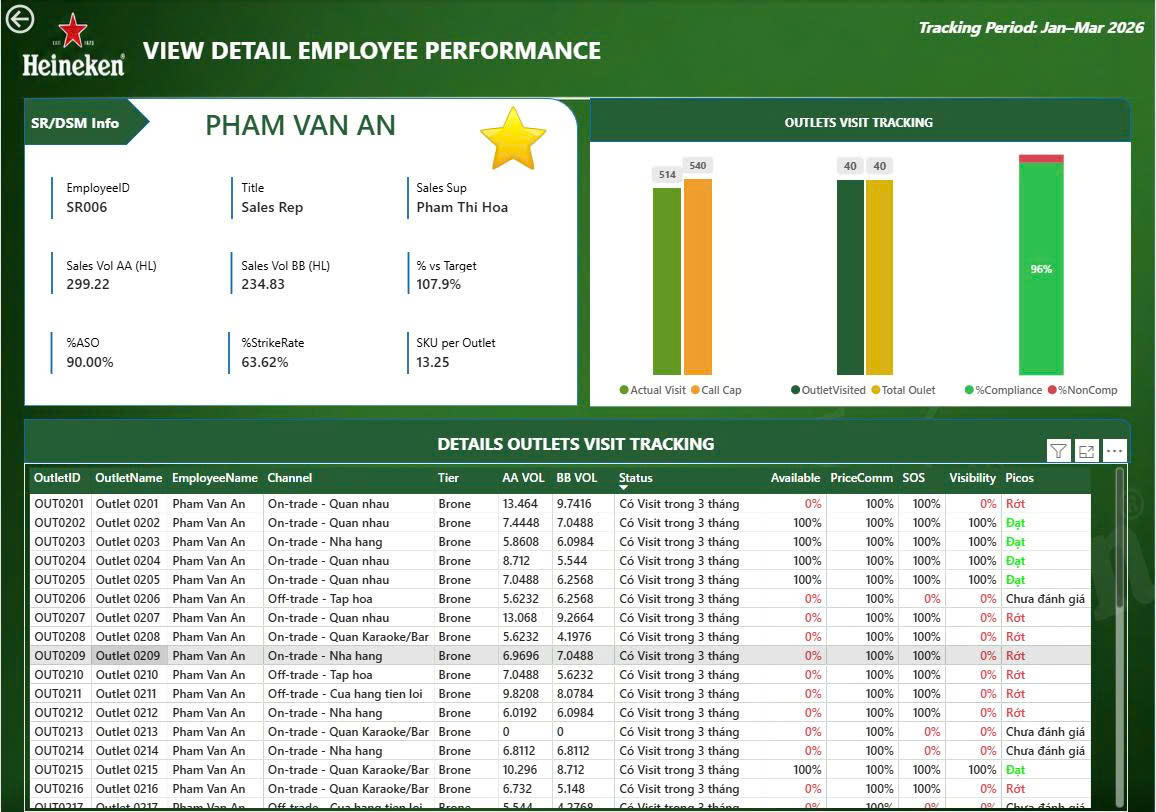

Layout of this report page (visuals, bound fields, positions):
{"tool":"powerbi","page":{"name":"Detail","canvas":[1280,900],"ordinal":1},"visuals":[{"type":"shape","box":[0,4.4,639.5,94.2],"z":0},{"type":"textbox","title":"Tracking Period: Jan–Mar 2026","box":[1010.8,17.7,269.7,24.6],"z":1000},{"type":"shape","box":[25.5,108.6,614,341.4],"z":2000},{"type":"shape","box":[25.5,108.6,139.7,52.1],"z":3000},{"type":"cardVisual","fields":{"Data":["Min(Dim_Employee.EmployeeID)","Min(Dim_Employee.Role)","Min(Dim_Employee.Manager name)","_Measures.Sales Vol AA (HL)","_Measures.Sales Vol BB (HL)","_Measures.Total Sales Volume % (Display)","_Measures.%ASO","_Measures.%StrikeRate","_Measures.SKU per Outlet"]},"box":[25.5,160.7,614,289.3],"z":4000},{"type":"shape","box":[165.1,116.4,333.6,54.3],"z":5000},{"type":"image","box":[498.8,111.9,137.4,82],"z":6000},{"type":"shape","box":[652.8,108.6,596.3,341.4],"z":7000},{"type":"shape","title":"OUTLET VISIT TRACKING ","box":[652.8,108.6,599.6,48.8],"z":8000},{"type":"clusteredColumnChart","fields":{"Category":["Dim_Employee.EmployeeName"],"Y":["_Measures.TotalVisit","_Measures.Call Cap"]},"box":[652.8,157.4,205,292.6],"z":9000},{"type":"clusteredColumnChart","fields":{"Category":["Dim_Employee.EmployeeName"],"Y":["_Measures.OutletVisited","_Measures.TotalOulet"]},"box":[857.9,157.4,199.5,292.6],"z":10000},{"type":"columnChart","fields":{"Category":["Dim_Employee.EmployeeName"],"Y":["_Measures.%RouteCompliance","_Measures.NonCompliance"]},"box":[1057.4,157.4,195.1,292.6],"z":11000},{"type":"shape","title":"OUTLET VISIT TRACKING ","box":[25.5,464.4,1227,48.8],"z":13000},{"type":"tableEx","fields":{"Values":["Dim_Outlet.OutletID","Dim_Outlet.OutletName","Dim_Employee.EmployeeName","Dim_Outlet.Channel","Dim_Outlet.Tier","Dim_Outlet.AA VOL","Dim_Outlet.BB Vol","Dim_Outlet.Not Visit","Dim_Outlet.Available","Dim_Outlet.PriceComm","Dim_Outlet.SOS","Dim_Outlet.Visibility"]},"box":[25.5,513.2,1223.6,386.8],"z":14000},{"type":"actionButton","box":[0,0,56.5,42.1],"z":16000},{"type":"shape","box":[49.9,279.3,13.3,46.6],"z":17000},{"type":"shape","box":[49.9,196.2,13.3,46.6],"z":18000},{"type":"shape","box":[49.9,368,12.2,46.6],"z":19000},{"type":"shape","box":[249.4,196.2,13.3,46.6],"z":20000},{"type":"shape","box":[249.4,279.3,12.2,46.6],"z":21000},{"type":"shape","box":[243.8,368,17.7,46.6],"z":21001},{"type":"shape","box":[444.5,196.2,13.3,46.6],"z":21002},{"type":"shape","box":[437.8,279.3,27.7,46.6],"z":21003},{"type":"shape","box":[442.2,368,17.7,46.6],"z":21004}]}

Visuals, with their boxes in screenshot pixels (x1, y1, x2, y2), scaled from the page's 1280x900 canvas onto the 1156x812 screenshot:
shape: {"left": 0, "top": 4, "right": 578, "bottom": 89}
"Tracking Period: Jan–Mar 2026" textbox: {"left": 913, "top": 16, "right": 1155, "bottom": 38}
shape: {"left": 23, "top": 98, "right": 578, "bottom": 406}
shape: {"left": 23, "top": 98, "right": 149, "bottom": 145}
cardVisual - Min(Dim_Employee.EmployeeID) x Min(Dim_Employee.Role): {"left": 23, "top": 145, "right": 578, "bottom": 406}
shape: {"left": 149, "top": 105, "right": 450, "bottom": 154}
image: {"left": 450, "top": 101, "right": 575, "bottom": 175}
shape: {"left": 590, "top": 98, "right": 1128, "bottom": 406}
"OUTLET VISIT TRACKING " shape: {"left": 590, "top": 98, "right": 1131, "bottom": 142}
clusteredColumnChart - Dim_Employee.EmployeeName x _Measures.TotalVisit: {"left": 590, "top": 142, "right": 775, "bottom": 406}
clusteredColumnChart - Dim_Employee.EmployeeName x _Measures.OutletVisited: {"left": 775, "top": 142, "right": 955, "bottom": 406}
columnChart - Dim_Employee.EmployeeName x _Measures.%RouteCompliance: {"left": 955, "top": 142, "right": 1131, "bottom": 406}
"OUTLET VISIT TRACKING " shape: {"left": 23, "top": 419, "right": 1131, "bottom": 463}
tableEx - Dim_Outlet.OutletID x Dim_Outlet.OutletName: {"left": 23, "top": 463, "right": 1128, "bottom": 811}
actionButton: {"left": 0, "top": 0, "right": 51, "bottom": 38}
shape: {"left": 45, "top": 252, "right": 57, "bottom": 294}
shape: {"left": 45, "top": 177, "right": 57, "bottom": 219}
shape: {"left": 45, "top": 332, "right": 56, "bottom": 374}
shape: {"left": 225, "top": 177, "right": 237, "bottom": 219}
shape: {"left": 225, "top": 252, "right": 236, "bottom": 294}
shape: {"left": 220, "top": 332, "right": 236, "bottom": 374}
shape: {"left": 401, "top": 177, "right": 413, "bottom": 219}
shape: {"left": 395, "top": 252, "right": 420, "bottom": 294}
shape: {"left": 399, "top": 332, "right": 415, "bottom": 374}
